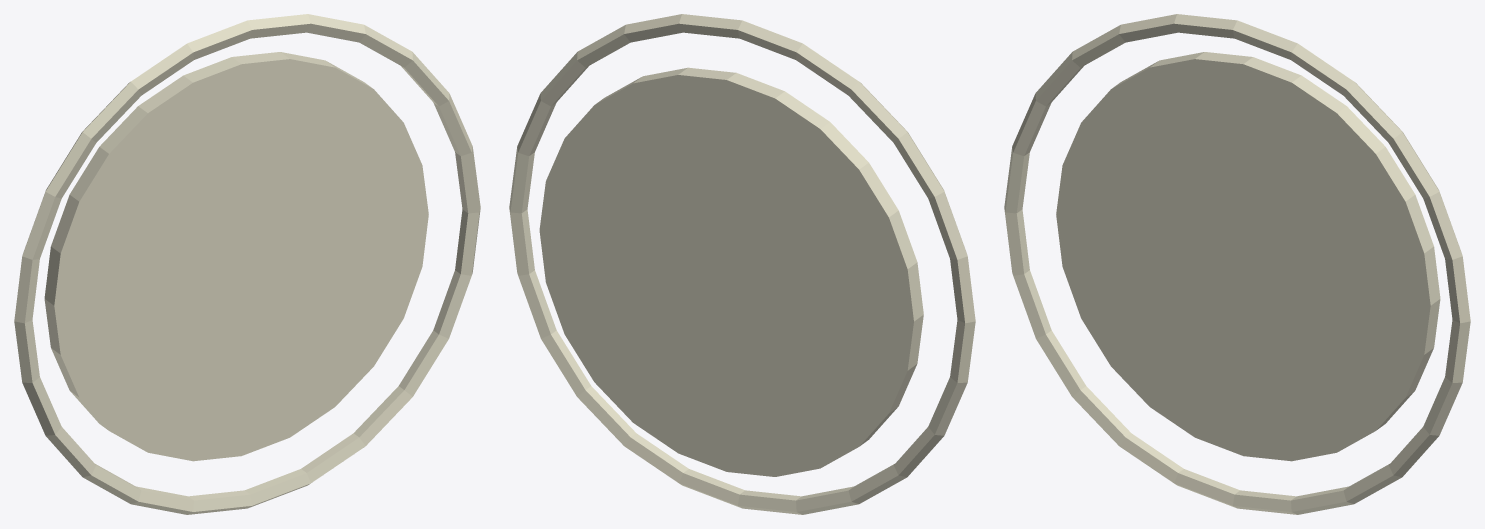
Rendered from rarity_base_godly.glb.
3 views of the same model, side by side, from view 1: azimuth 30°, elevation 25°; view 2: azimuth 150°, elevation 25°; view 3: azimuth 330°, elevation 25° (orthographic).
Parts seen in each view (by area): view 1: base_disc, outer_ring; view 2: base_disc, outer_ring; view 3: base_disc, outer_ring.
Part boxes in pixels (bbox=[...]): base_disc: bbox=[44, 52, 428, 461]; outer_ring: bbox=[14, 14, 480, 514]; base_disc: bbox=[539, 67, 923, 476]; outer_ring: bbox=[509, 14, 975, 514]; base_disc: bbox=[1056, 52, 1440, 461]; outer_ring: bbox=[1004, 14, 1470, 514].
Size of the model in its own units: 1.37 by 1.37 by 0.1038.
